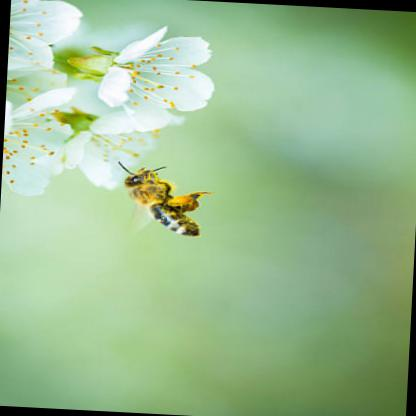other: (111, 154, 209, 236)
